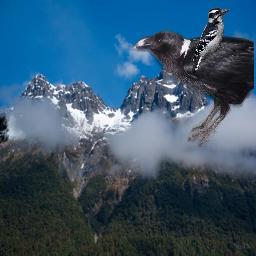Crow: (133, 30, 254, 149)
Woodpecker: (190, 7, 230, 75)
